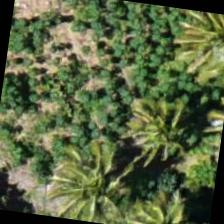Kelapa_Sawit: (112, 85, 214, 186), (53, 133, 156, 223), (123, 173, 215, 223), (170, 8, 223, 92)
